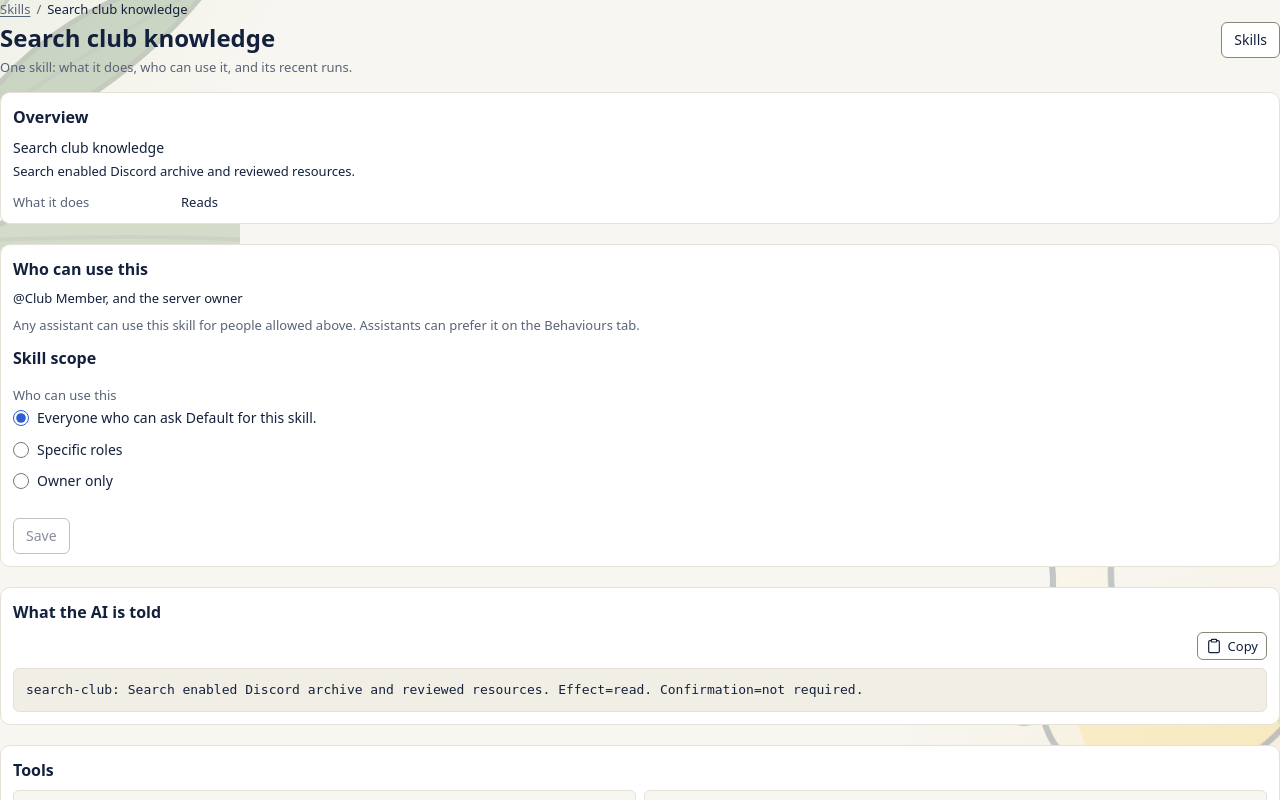
Test: AssistantSkillPage › keeps Save disabled for Specific roles until at least one role is picked
Click the radio button labelled "Specific roles".
click(21, 450)  # box [13,442,29,458]
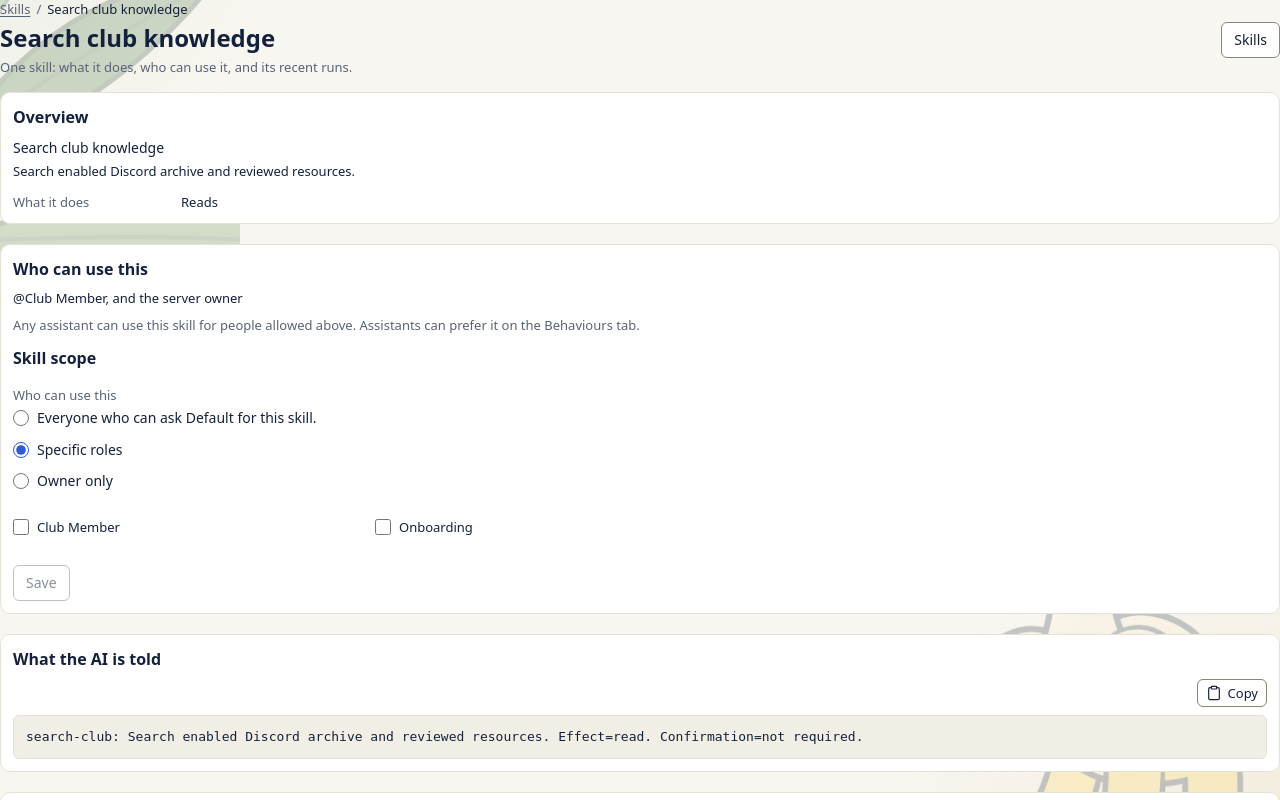
Expected: the button "Save" is disabled, [13,565,70,601]
Click the checkbox labelled "Club Member".
click(21, 527)  # box [13,519,29,535]
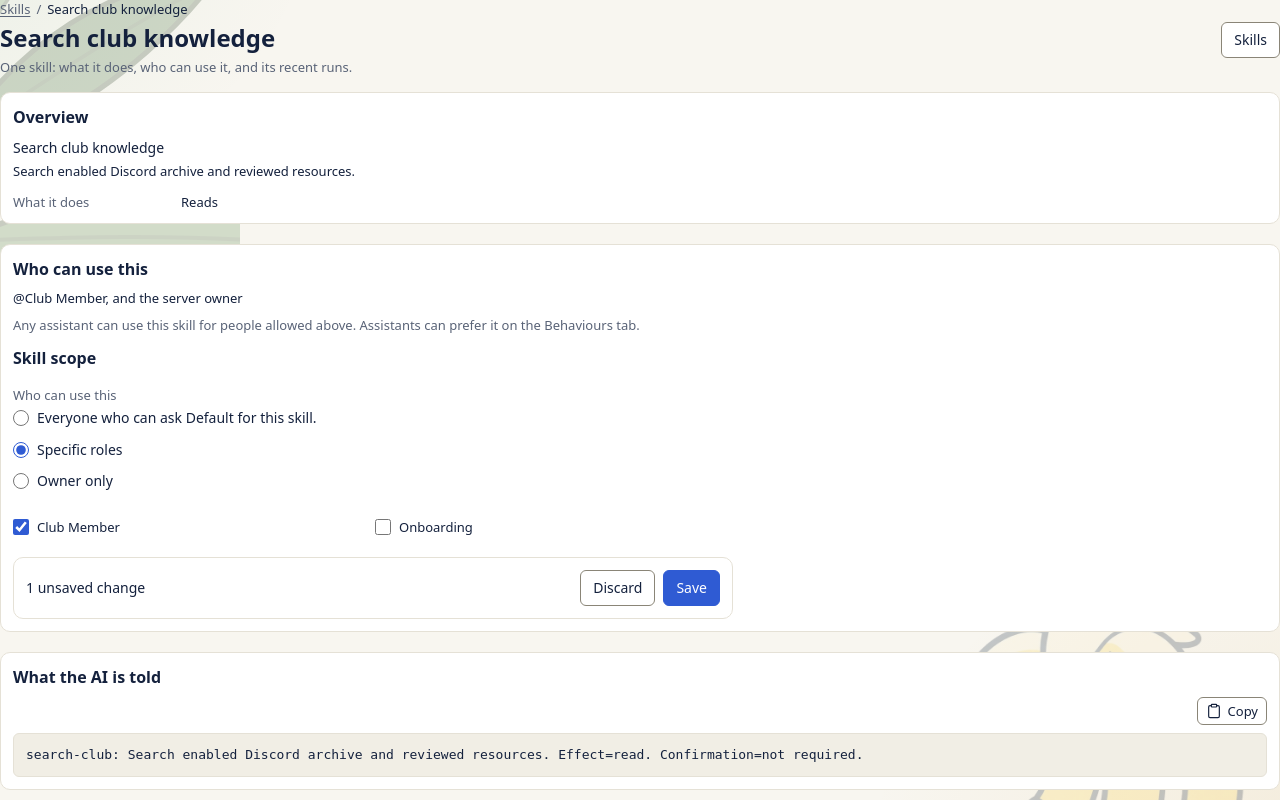
Expected: the button "Save" is enabled, [663,570,720,606]
